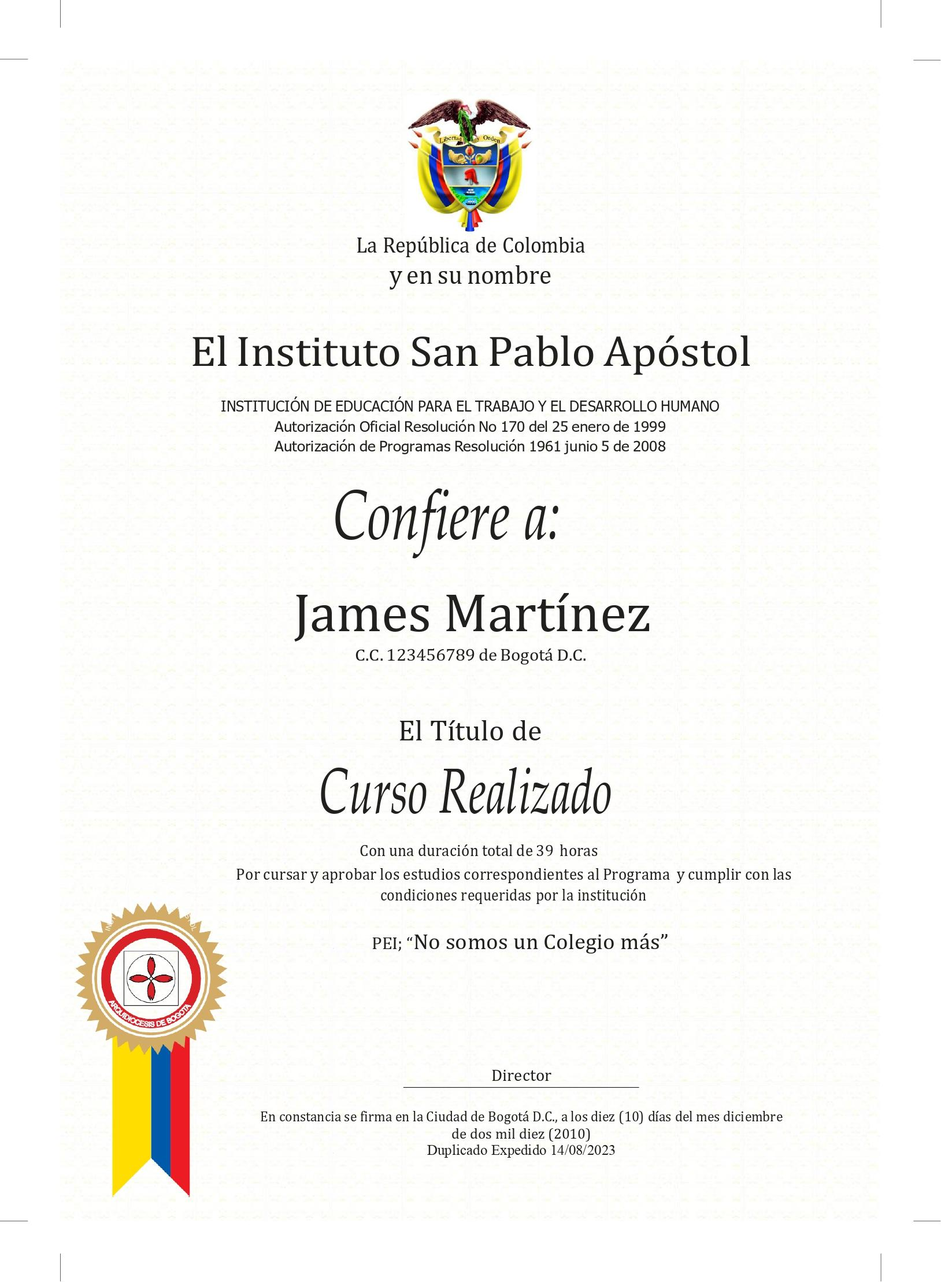certificado: (6, 6, 940, 1281)
escudo de colombia: (367, 81, 558, 234)
firma: (387, 996, 669, 1095)
institucion: (173, 306, 772, 384)
nombre: (269, 564, 665, 653)
titulo: (300, 753, 629, 821)
